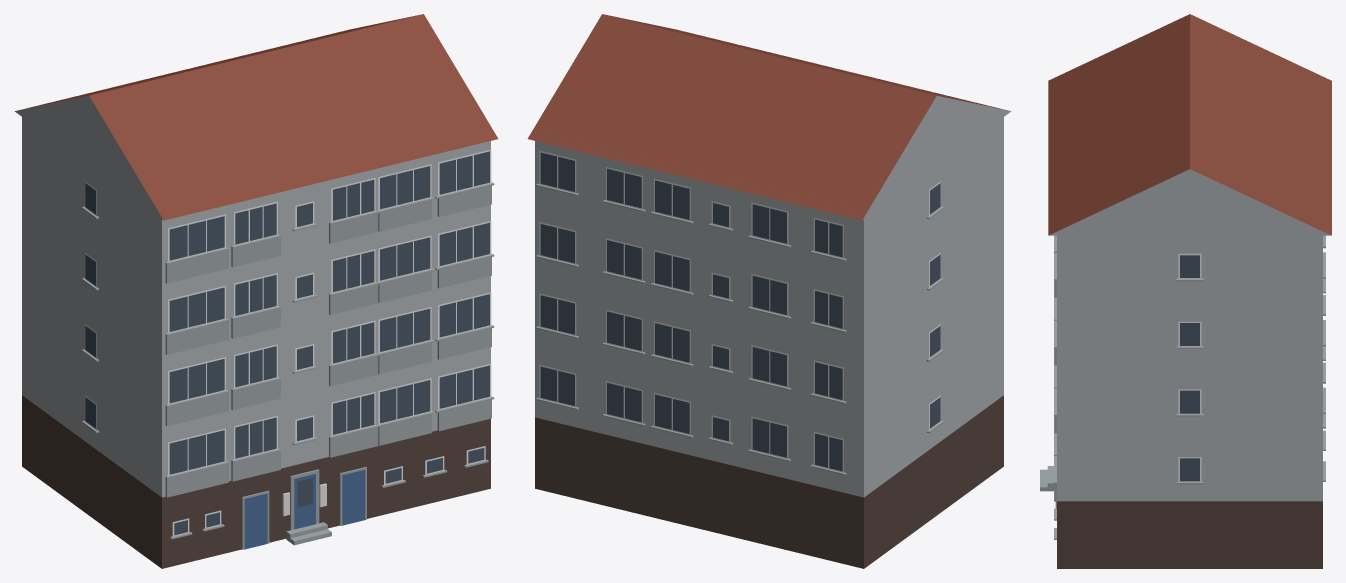
File: nw-portiek-brick-pitched__clad-full__5__gable__long__solid.glb
The picture shows the model from 3 angles, left to right: view 1: azimuth 30°, elevation 25°; view 2: azimuth 150°, elevation 25°; view 3: azimuth 270°, elevation 25°; orthographic projection. The views are drawn at different scales.
Visible parts, largest first — view 1: nw-portiek-brick-pitched__clad-full__5__gable__long__solid; view 2: nw-portiek-brick-pitched__clad-full__5__gable__long__solid; view 3: nw-portiek-brick-pitched__clad-full__5__gable__long__solid.
Boxes of the visible parts, box(x1,y1,x2,y2) form: nw-portiek-brick-pitched__clad-full__5__gable__long__solid: box(15, 14, 498, 568); nw-portiek-brick-pitched__clad-full__5__gable__long__solid: box(527, 14, 1010, 568); nw-portiek-brick-pitched__clad-full__5__gable__long__solid: box(1040, 14, 1331, 568).
Bounding box in the file's own units: 14.58 × 17.59 × 11.6.
